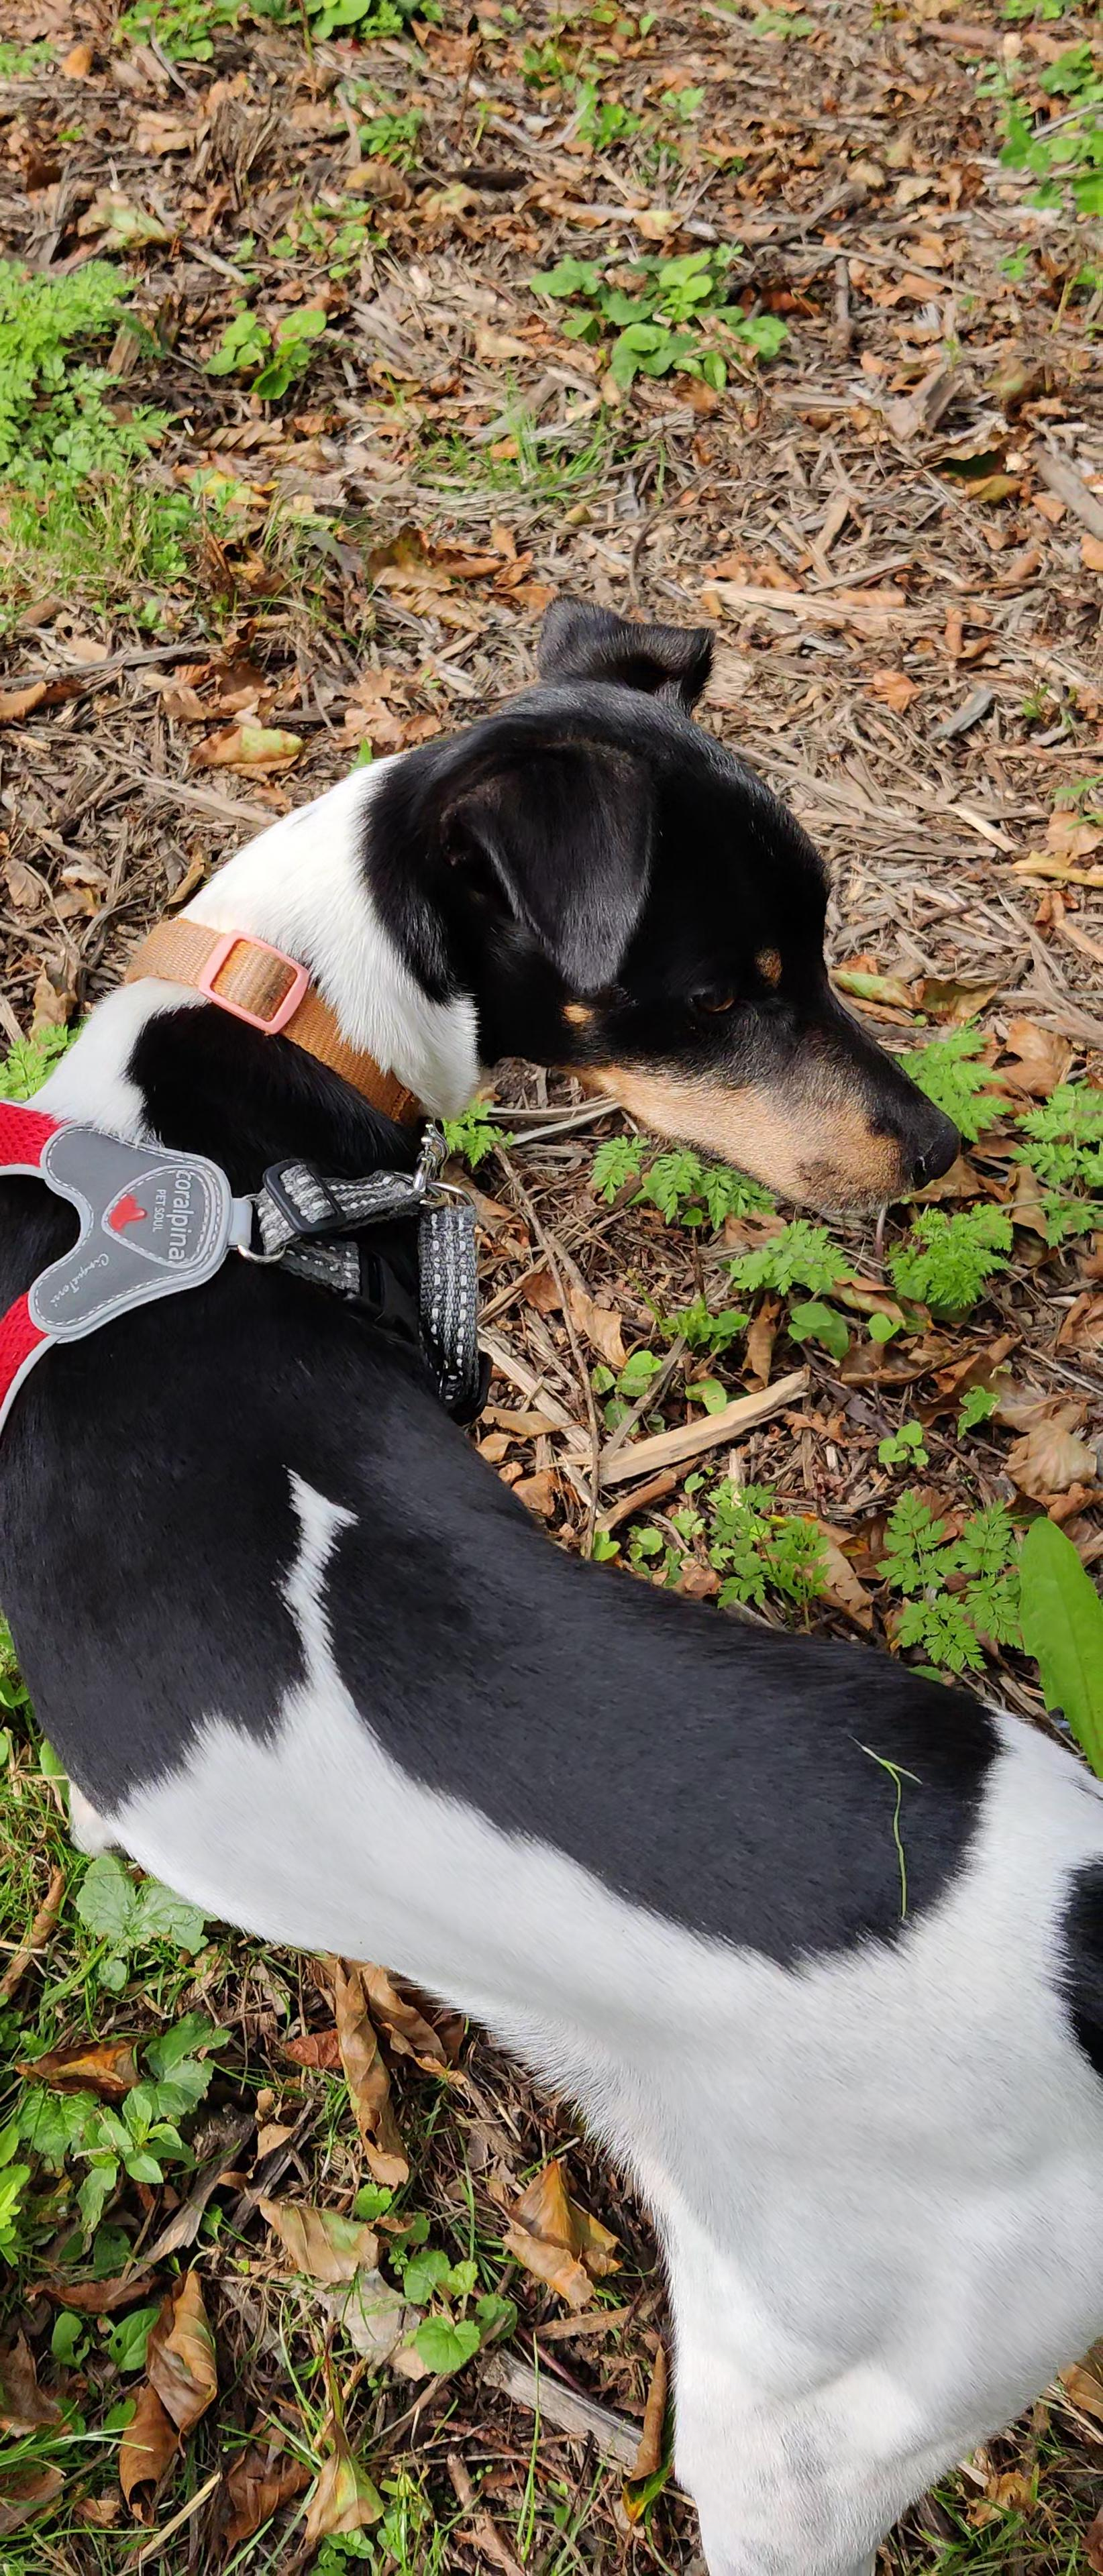Dog: (0, 580, 1103, 2576)
